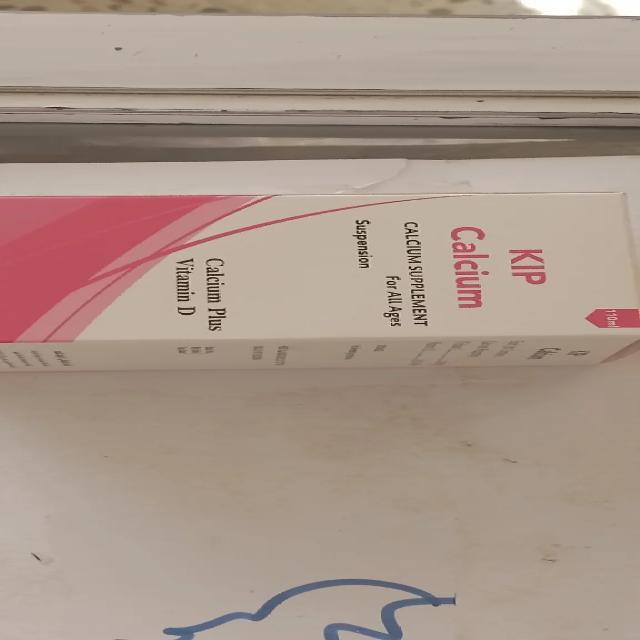drug-name: (448, 215, 548, 312)
